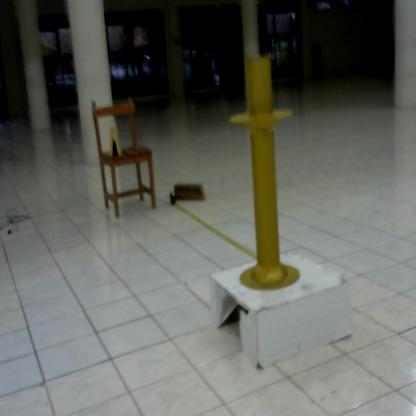pole: (228, 50, 303, 291)
